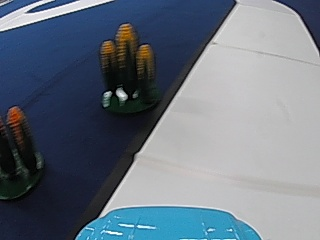corn: (96, 21, 159, 119), (1, 102, 43, 202)
